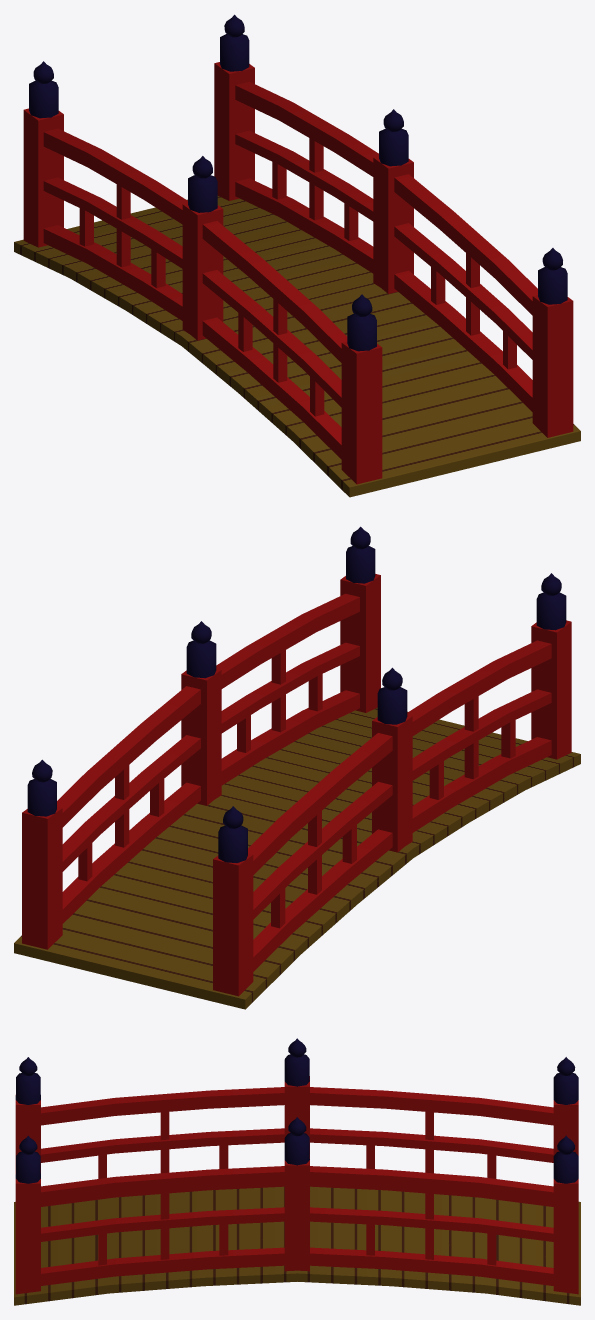
File: Puente.obj
3 renders of one model, top to bottom at view 1: azimuth 30°, elevation 25°; view 2: azimuth 150°, elevation 25°; view 3: azimuth 270°, elevation 25°, orthographic. The views are drawn at different scales.
Parts seen in each view (by area): view 1: Puente; view 2: Puente; view 3: Puente.
Part boxes in pixels (x1,y1,x2,y2): Puente: [14, 14, 580, 497]; Puente: [14, 526, 580, 1009]; Puente: [14, 1038, 580, 1305].
Bounding box in the file's own units: 20.29 × 17.94 × 50.96.
1 material, 1 textured.
